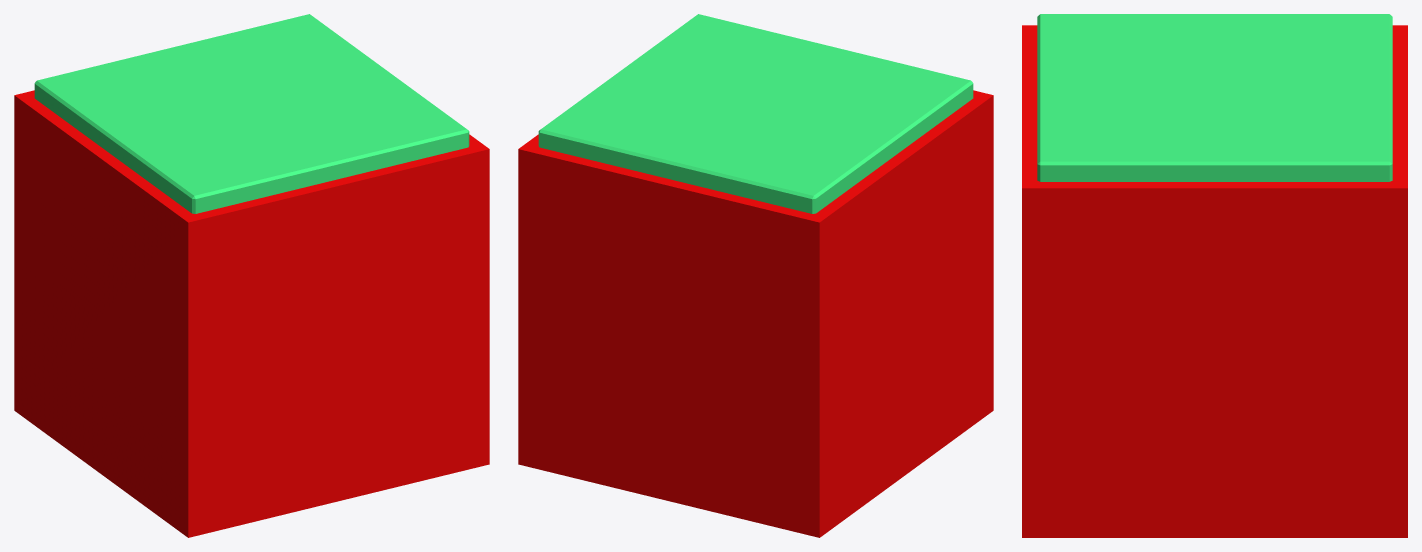
The model's file is CubeTest_ForZ.fbx.
3 renders of one model, left to right at view 1: azimuth 30°, elevation 25°; view 2: azimuth 150°, elevation 25°; view 3: azimuth 270°, elevation 25°, orthographic. The views are drawn at different scales.
Visible parts, largest first — view 1: pCube15, pCube16; view 2: pCube15, pCube16; view 3: pCube15, pCube16.
Part boxes in pixels (box(x1,y1,x2,y2)): pCube15: box(14, 90, 489, 537); pCube16: box(34, 14, 469, 213); pCube15: box(518, 90, 993, 537); pCube16: box(538, 14, 973, 213); pCube15: box(1022, 25, 1407, 537); pCube16: box(1037, 14, 1392, 181).
Bounding box in the file's own units: 100 × 105 × 100.
